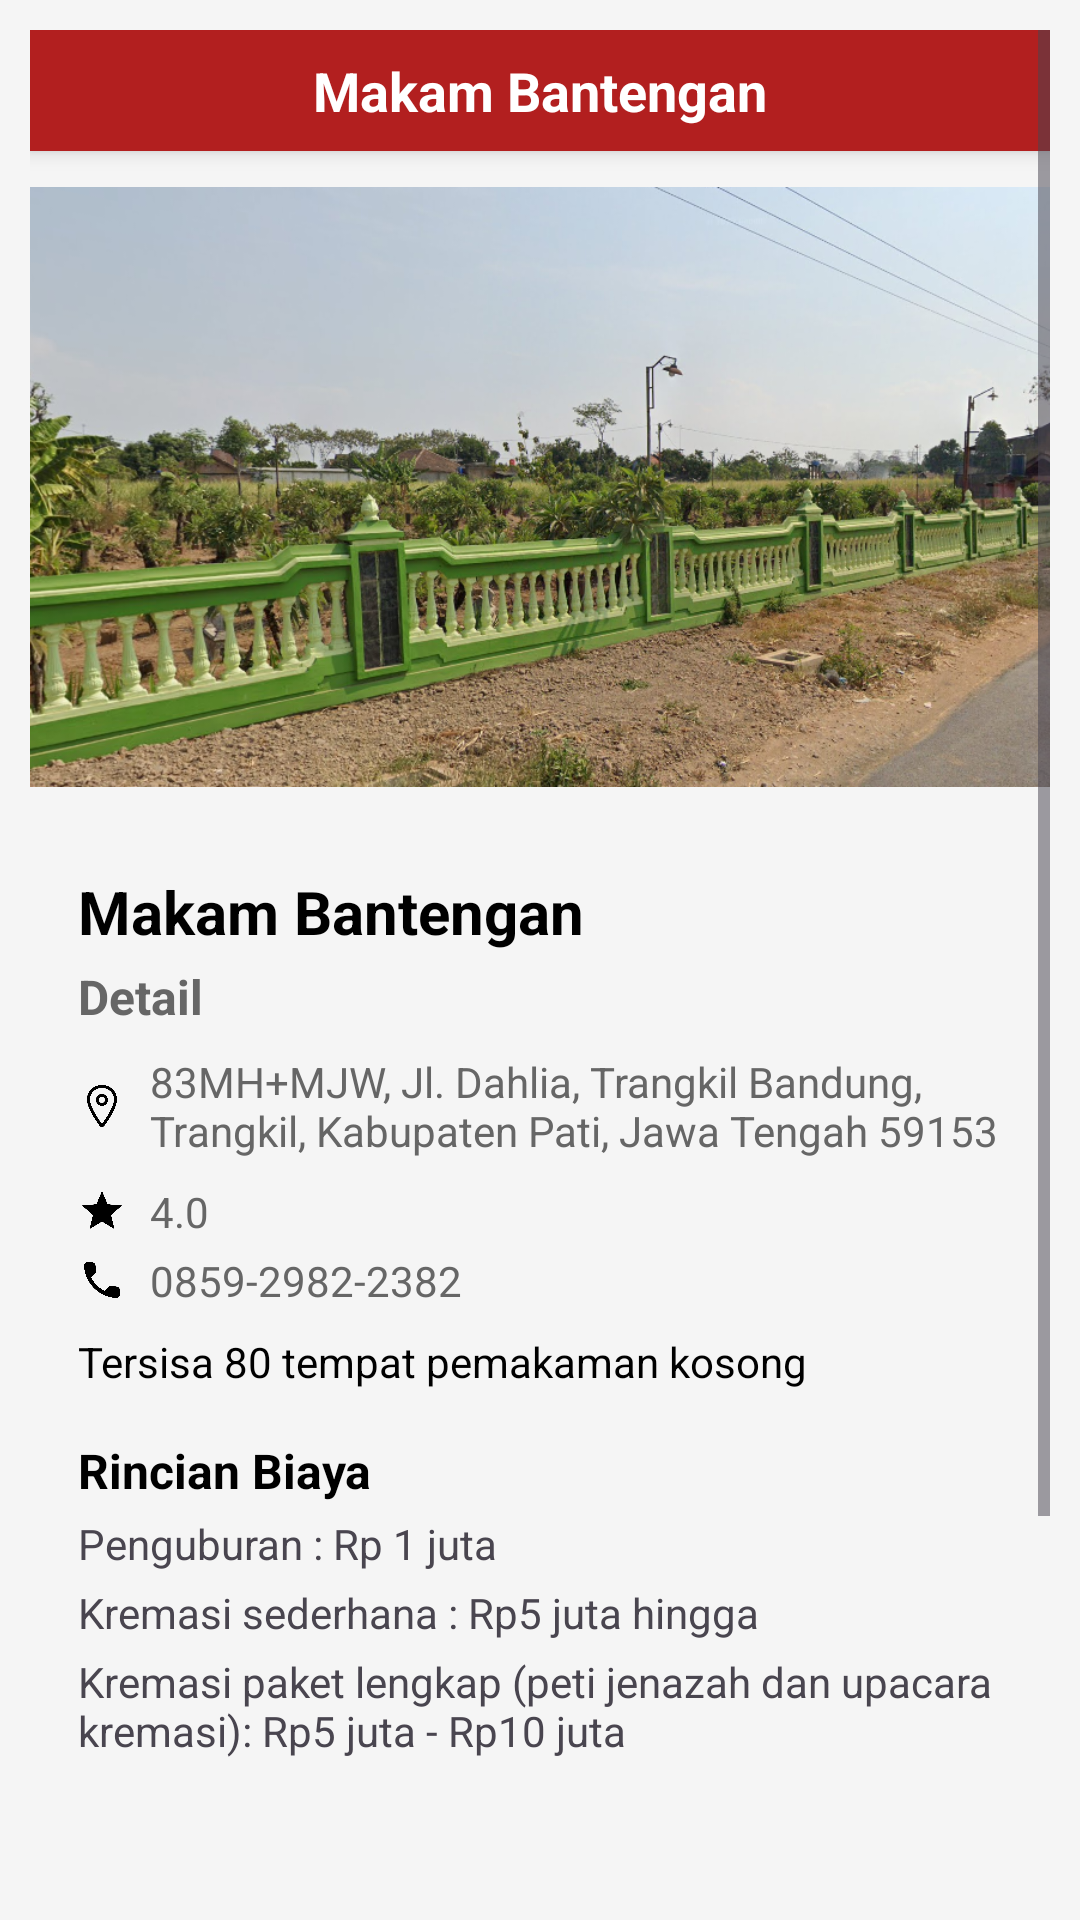

Named icons in this screenshot (1080 x 1920) and their bounding boxes, (x1,y1,x2,y2):
iclocation: (87,1085,117,1127)
icphone: (84,1262,120,1298)
icstar: (82,1192,122,1229)
